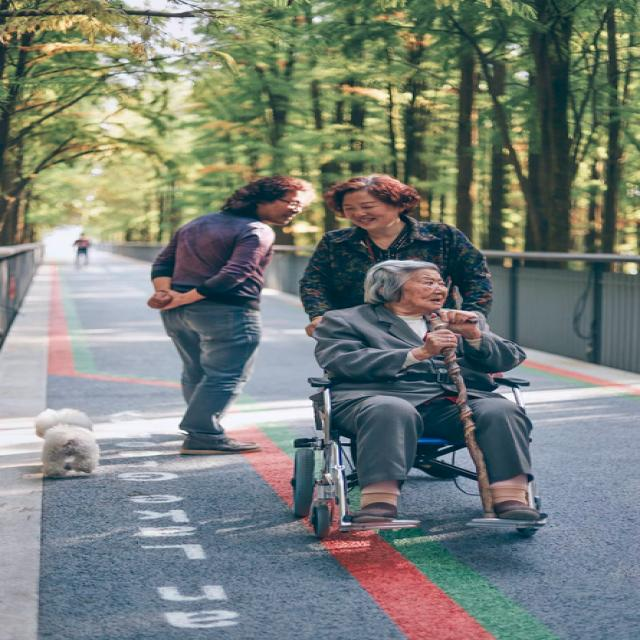wheelchairs: (292, 368, 545, 538)
